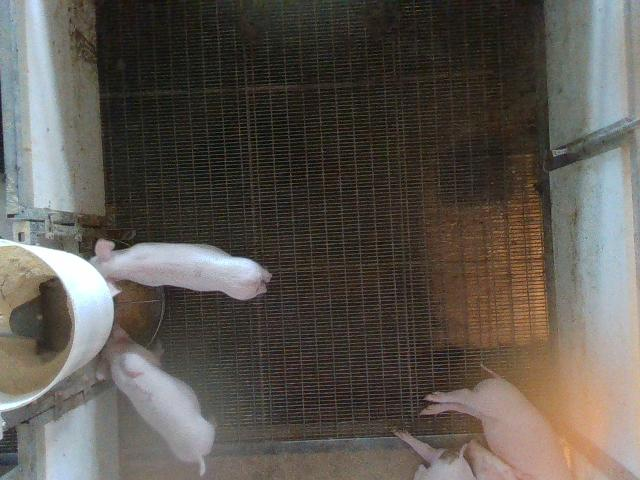pig-5: (96, 325, 214, 473)
